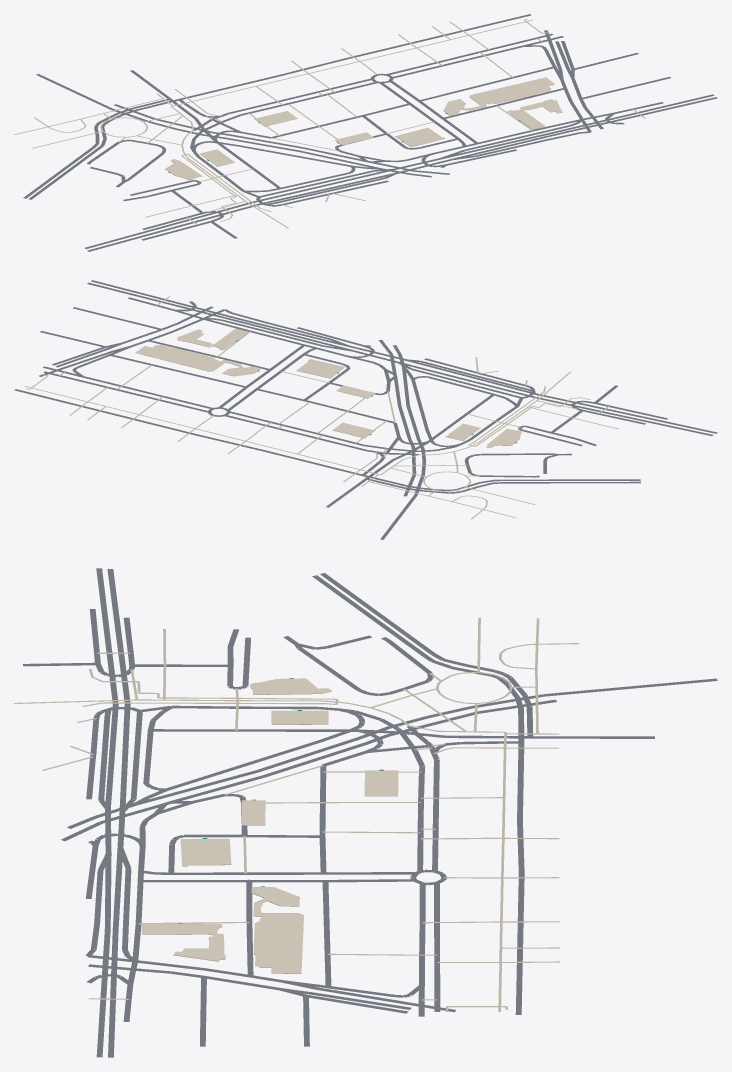
The model's file is urban-south-stage5.glb.
The picture shows the model from 3 angles, top to bottom: view 1: azimuth 30°, elevation 25°; view 2: azimuth 150°, elevation 25°; view 3: azimuth 270°, elevation 25°; orthographic projection. The views are drawn at different scales.
Visible parts, largest first — view 1: urban-street-south-roads, urban-street-south-footways, urban-hotel-713-S037, urban-hotel-725-S038, urban-hotel-724-S004, urban-hotel-735-S017; view 2: urban-street-south-roads, urban-street-south-footways, urban-hotel-713-S037, urban-hotel-725-S038, urban-hotel-724-S004; view 3: urban-street-south-roads, urban-street-south-footways, urban-hotel-713-S037, urban-hotel-725-S038, urban-hotel-724-S004, urban-hotel-735-S017, urban-hotel-711-S014, urban-hotel-728-S016.
Boxes of the visible parts, x1=… form: urban-street-south-roads: x1=23, y1=14, x2=717, y2=251; urban-street-south-footways: x1=14, y1=19, x2=645, y2=228; urban-hotel-713-S037: x1=443, y1=77, x2=555, y2=115; urban-hotel-725-S038: x1=507, y1=99, x2=562, y2=129; urban-hotel-724-S004: x1=395, y1=127, x2=445, y2=147; urban-hotel-735-S017: x1=165, y1=159, x2=202, y2=180; urban-street-south-roads: x1=14, y1=280, x2=717, y2=539; urban-street-south-footways: x1=24, y1=296, x2=618, y2=519; urban-hotel-713-S037: x1=135, y1=344, x2=261, y2=376; urban-hotel-725-S038: x1=177, y1=328, x2=248, y2=350; urban-hotel-724-S004: x1=296, y1=359, x2=344, y2=378; urban-street-south-roads: x1=23, y1=568, x2=717, y2=1057; urban-street-south-footways: x1=14, y1=617, x2=578, y2=1012; urban-hotel-713-S037: x1=251, y1=887, x2=303, y2=973; urban-hotel-725-S038: x1=141, y1=923, x2=225, y2=961; urban-hotel-724-S004: x1=180, y1=838, x2=231, y2=866; urban-hotel-735-S017: x1=250, y1=678, x2=331, y2=694; urban-hotel-711-S014: x1=364, y1=770, x2=398, y2=796; urban-hotel-728-S016: x1=271, y1=710, x2=328, y2=724.
Bounding box in the file's own units: 944 × 0.4 × 574.
